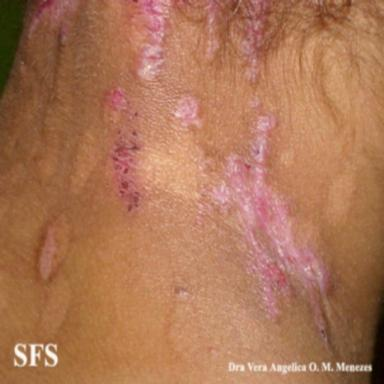Epidermolysis-Bullosa-Pruriginosa: (210, 115, 328, 331), (129, 0, 353, 83), (107, 87, 141, 211), (37, 218, 72, 280), (30, 2, 78, 46), (41, 270, 71, 333), (326, 170, 356, 227), (174, 95, 202, 126)
